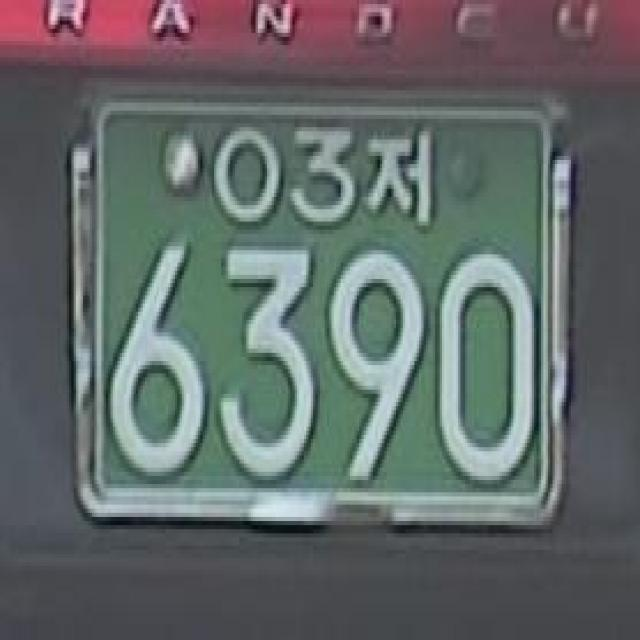illegal_plate: (59, 82, 582, 560)
